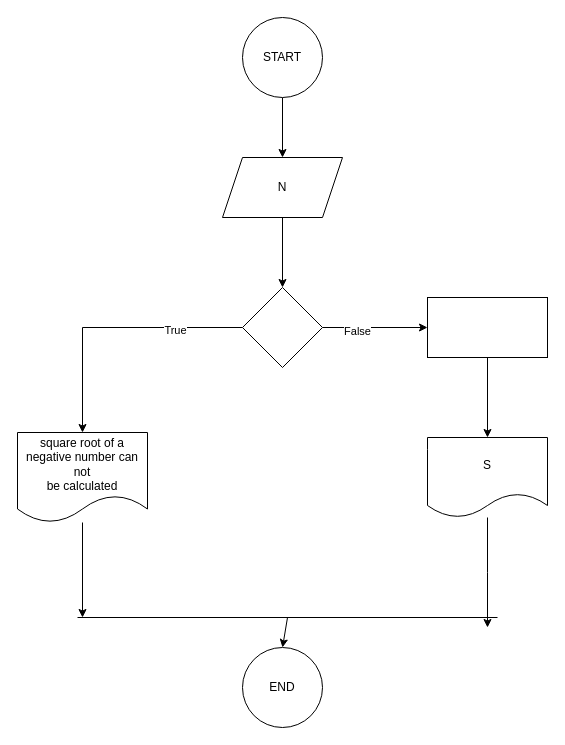
This 565x745 diagram has some shape labels left out. The shapes that lost their labels are listed below. From the top down, each one's centre as x and y in pixels, then its label:
At (282,327): "N < 0".
At (487,327): "S = √N".
